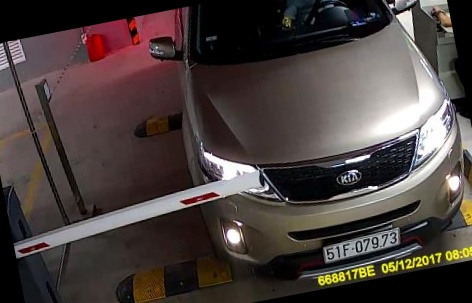plate: (308, 217, 399, 262)
